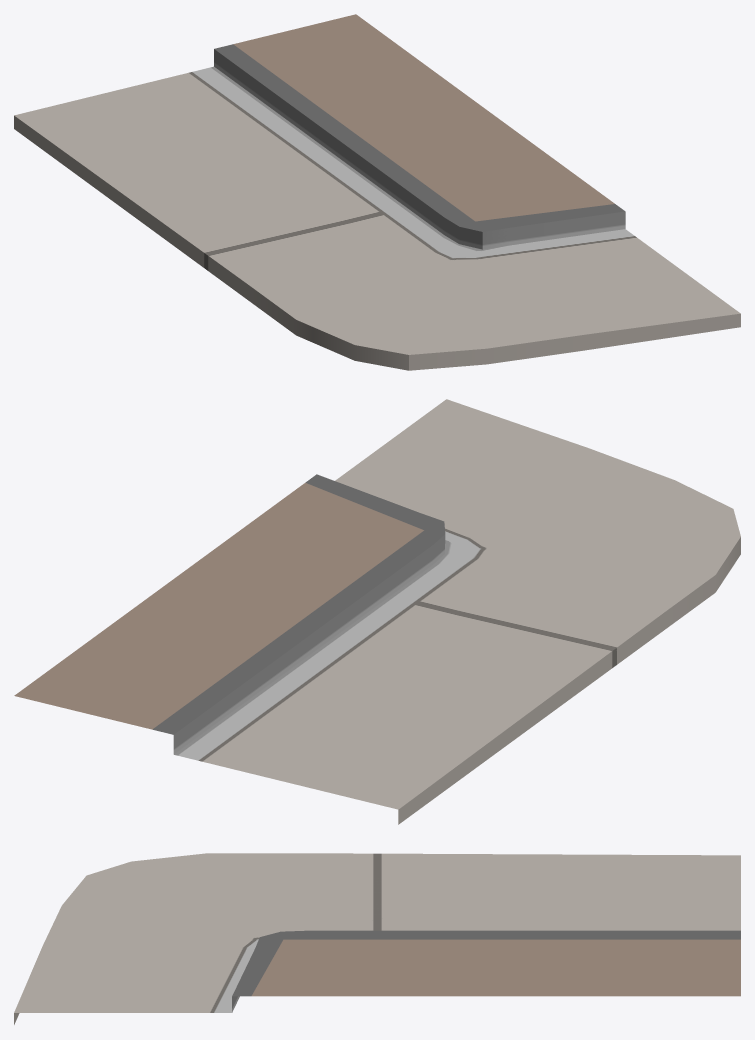
Rendered from island_corner_1_mesh.fbx.
The picture shows the model from 3 angles, top to bottom: view 1: azimuth 30°, elevation 25°; view 2: azimuth 150°, elevation 25°; view 3: azimuth 270°, elevation 25°; orthographic projection. The views are drawn at different scales.
Parts seen in each view (by area): view 1: island_corner_1_mesh; view 2: island_corner_1_mesh; view 3: island_corner_1_mesh.
Boxes of the visible parts, box(x1,y1,x2,y2) form: island_corner_1_mesh: box(14, 14, 740, 370); island_corner_1_mesh: box(14, 399, 740, 824); island_corner_1_mesh: box(14, 853, 740, 1024).
Bounding box in the file's own units: 5.13 × 0.4479 × 10.
